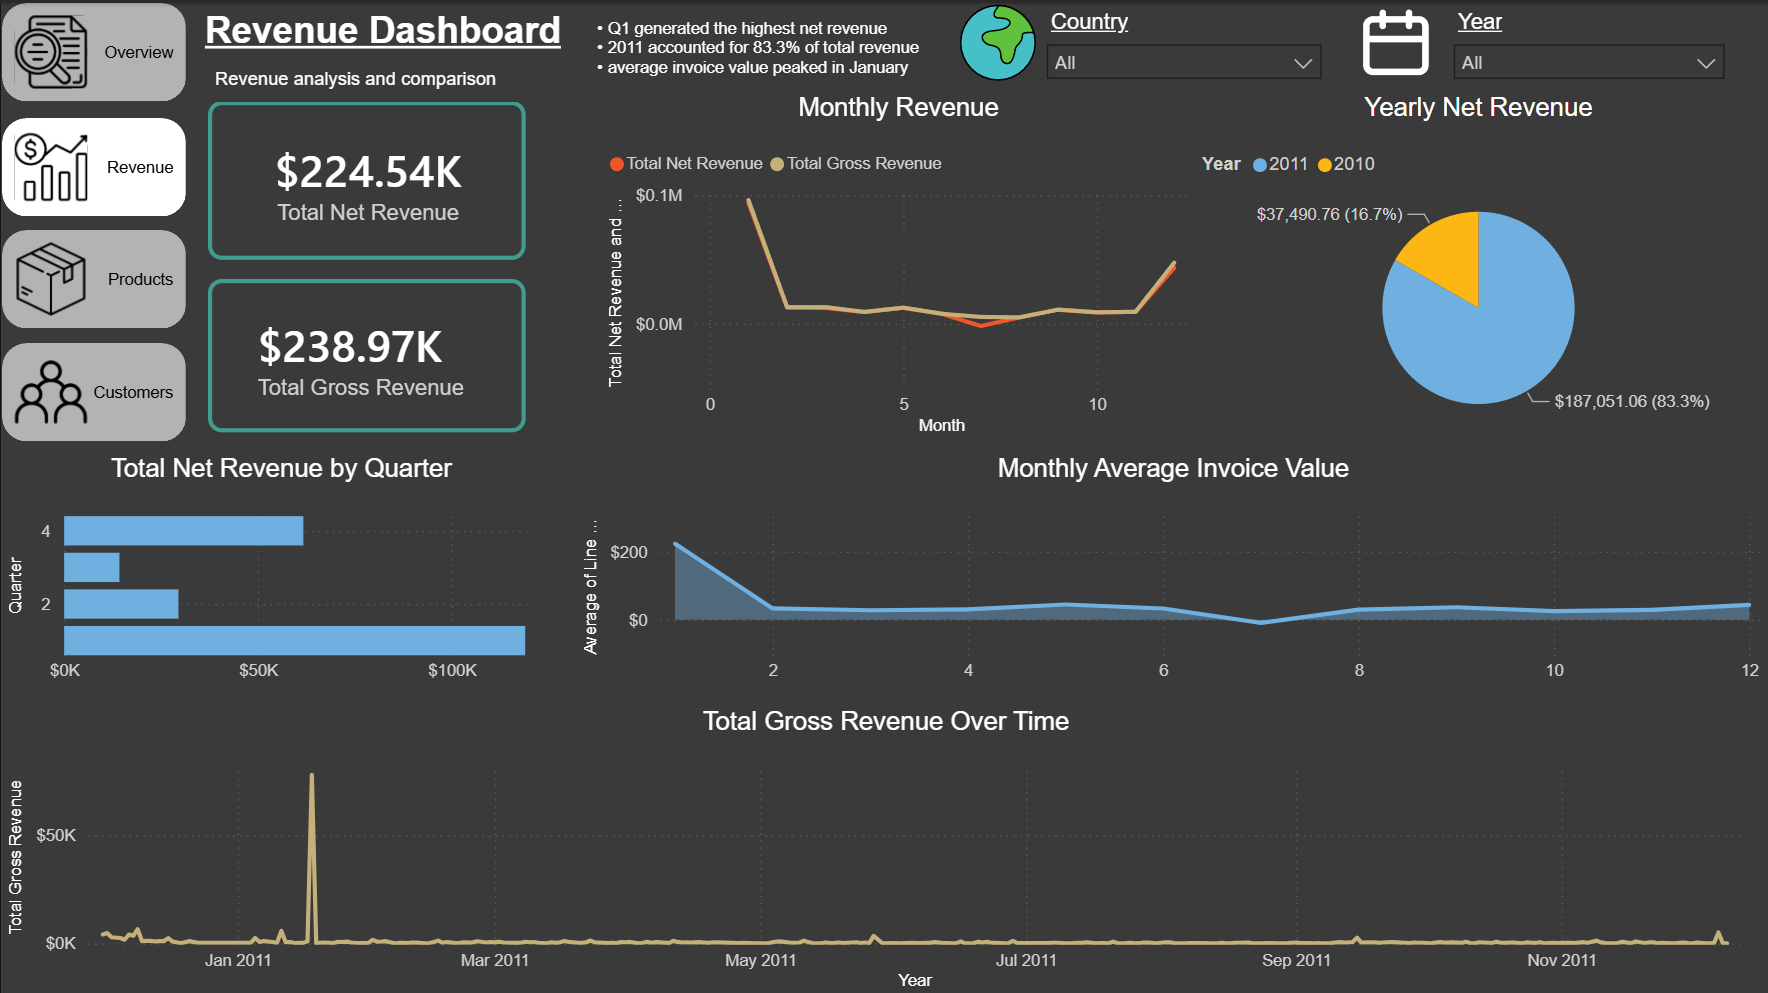

The page's visual inventory and layout, read from the dashboard file:
{"tool":"powerbi","page":{"name":"Revenue","canvas":[1280,720],"ordinal":1},"visuals":[{"type":"actionButton","box":[0,0,133.3,71.4],"z":0,"group":"g1"},{"type":"textbox","box":[141.9,0,282.4,42.7],"z":0},{"type":"lineChart","title":"Monthly Revenue","fields":{"Y":["Invoice.Total Revenue","Invoice.Total Gross Revenue"],"Category":["Date.Month"]},"box":[434.4,65.2,429.3,252.7],"z":1000},{"type":"actionButton","box":[0,83,133.3,71.4],"z":1000,"group":"g1"},{"type":"cardVisual","fields":{"Data":["Invoice.Total Net Revenue"]},"box":[149.4,71.2,230.4,114.5],"z":2000},{"type":"actionButton","box":[0,164.3,133.3,71.4],"z":2000,"group":"g1"},{"type":"cardVisual","fields":{"Data":["Invoice.Total Gross Revenue"]},"box":[149.4,199.7,230.4,111],"z":3000},{"type":"actionButton","box":[0,246.5,133.3,71.4],"z":3000,"group":"g1"},{"type":"areaChart","title":"Monthly Average Invoice Value","fields":{"Category":["Date.Month"],"Y":["Avg(Invoice.Line Price)"]},"box":[416.4,326.4,863.6,172.7],"z":4000},{"type":"pieChart","title":"Yearly Net Revenue","fields":{"Category":["Date.Year"],"Y":["Invoice.Total Net Revenue"]},"box":[863.7,65.2,410.5,250.5],"z":5000},{"type":"lineChart","title":"Total Gross Revenue Over Time","fields":{"Category":["Date.Invoice Date.Variation.Date Hierarchy.Year","Date.Invoice Date.Variation.Date Hierarchy.Quarter","Date.Invoice Date.Variation.Date Hierarchy.Month","Date.Invoice Date.Variation.Date Hierarchy.Day"],"Y":["Invoice.Total Gross Revenue"]},"box":[0,509.6,1280,210.2],"z":6000},{"type":"barChart","fields":{"Y":["Invoice.Total Net Revenue"],"Category":["Date.Quarter"]},"box":[0,326.4,404.6,172.7],"z":7000},{"type":"group","id":"g1","title":"Group 1","box":[0,0,133.3,317.9],"z":8000},{"type":"slicer","fields":{"Values":["Country.Country"]},"box":[746.4,0,218.6,56.9],"z":9000,"group":"g2"},{"type":"textbox","box":[148.9,42.4,266.4,29.2],"z":9000},{"type":"group","id":"g2","title":"Group 2","box":[691.6,0,273.3,57],"z":9001},{"type":"group","id":"g3","title":"Group 3","box":[976.4,0,279.8,57],"z":9002},{"type":"textbox","box":[415.6,6.5,275.8,58.6],"z":9003},{"type":"slicer","fields":{"Values":["Date.Year"]},"box":[1040.6,0,215.6,57],"z":10000,"group":"g3"},{"type":"image","box":[691.6,0,59.9,57],"z":12000,"group":"g2"},{"type":"image","box":[976.4,0,64.2,57],"z":12002,"group":"g3"}]}

Visuals, with their boxes in screenshot pixels (x1, y1, x2, y2), scaled from the page's 1280x720 canvas onto the 1768x993 screenshot:
actionButton: <bbox>0, 0, 184, 98</bbox>
textbox: <bbox>196, 0, 586, 59</bbox>
"Monthly Revenue" lineChart: <bbox>600, 90, 1193, 438</bbox>
actionButton: <bbox>0, 114, 184, 213</bbox>
cardVisual - Invoice.Total Net Revenue: <bbox>206, 98, 525, 256</bbox>
actionButton: <bbox>0, 227, 184, 325</bbox>
cardVisual - Invoice.Total Gross Revenue: <bbox>206, 275, 525, 429</bbox>
actionButton: <bbox>0, 340, 184, 438</bbox>
"Monthly Average Invoice Value" areaChart: <bbox>575, 450, 1767, 688</bbox>
"Yearly Net Revenue" pieChart: <bbox>1193, 90, 1760, 435</bbox>
"Total Gross Revenue Over Time" lineChart: <bbox>0, 703, 1767, 992</bbox>
barChart - Invoice.Total Net Revenue x Date.Quarter: <bbox>0, 450, 559, 688</bbox>
"Group 1" group: <bbox>0, 0, 184, 438</bbox>
slicer - Country.Country: <bbox>1031, 0, 1333, 78</bbox>
textbox: <bbox>206, 58, 574, 99</bbox>
"Group 2" group: <bbox>955, 0, 1333, 79</bbox>
"Group 3" group: <bbox>1349, 0, 1735, 79</bbox>
textbox: <bbox>574, 9, 955, 90</bbox>
slicer - Date.Year: <bbox>1437, 0, 1735, 79</bbox>
image: <bbox>955, 0, 1038, 79</bbox>
image: <bbox>1349, 0, 1437, 79</bbox>
